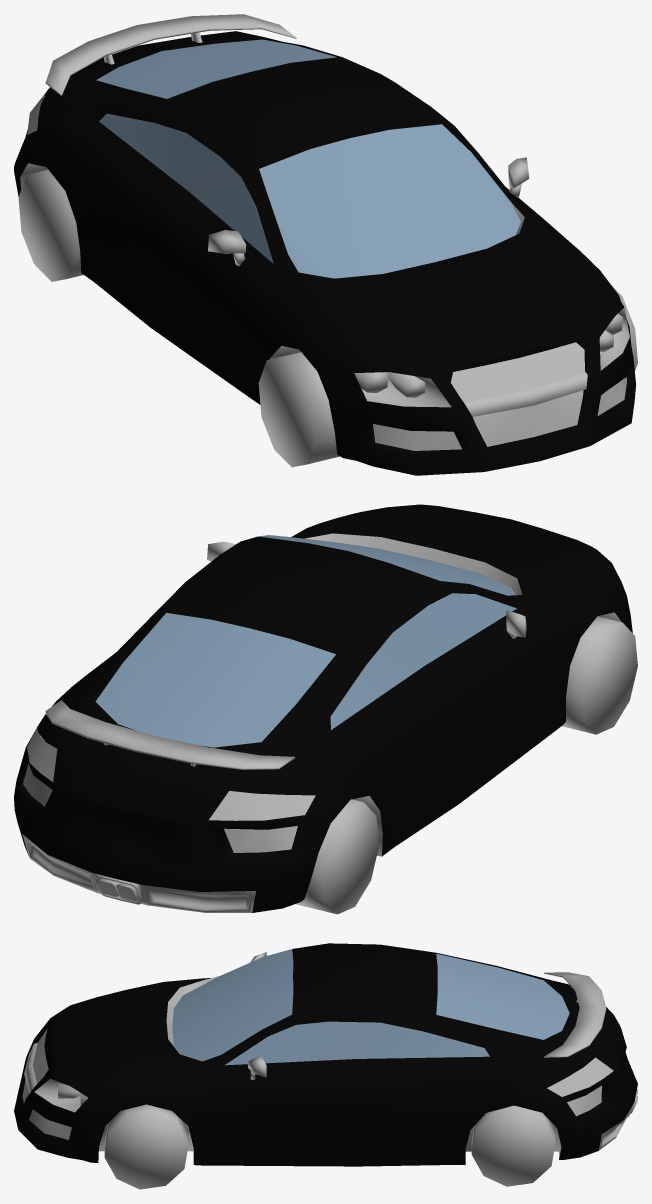
Rendered from Car_39_LOD1.FBX.
The picture shows the model from 3 angles, top to bottom: view 1: azimuth 30°, elevation 25°; view 2: azimuth 150°, elevation 25°; view 3: azimuth 270°, elevation 25°; orthographic projection. The views are drawn at different scales.
Visible parts, largest first — view 1: Body_39_LOD1, Glass_39_LOD1, Matte_39_LOD1, Wheel_R_LOD1, Wheel_Back_R_LOD1; view 2: Body_39_LOD1, Glass_39_LOD1, Matte_39_LOD1, Wheel_R_LOD1, Wheel_Back_R_LOD1, Taillights_39_LOD1; view 3: Body_39_LOD1, Glass_39_LOD1, Matte_39_LOD1, Wheel_L_LOD1, Wheel_Back_L_LOD1, Taillights_39_LOD1.
Part boxes in pixels (x1,y1,x2,y2): Body_39_LOD1: (14, 31, 635, 475); Glass_39_LOD1: (96, 39, 520, 278); Matte_39_LOD1: (20, 14, 629, 450); Wheel_R_LOD1: (258, 352, 339, 467); Wheel_Back_R_LOD1: (18, 169, 83, 281); Body_39_LOD1: (14, 504, 632, 912); Glass_39_LOD1: (95, 535, 516, 747); Matte_39_LOD1: (22, 533, 621, 912); Wheel_R_LOD1: (562, 616, 637, 734); Wheel_Back_R_LOD1: (296, 799, 379, 914); Taillights_39_LOD1: (27, 728, 315, 820); Body_39_LOD1: (14, 943, 637, 1166); Glass_39_LOD1: (172, 949, 569, 1065); Matte_39_LOD1: (22, 952, 637, 1158); Wheel_L_LOD1: (104, 1104, 188, 1189); Wheel_Back_L_LOD1: (471, 1105, 555, 1186); Taillights_39_LOD1: (547, 1057, 613, 1096).
Bounding box in the file's own units: 1.88 × 1.23 × 4.3.
